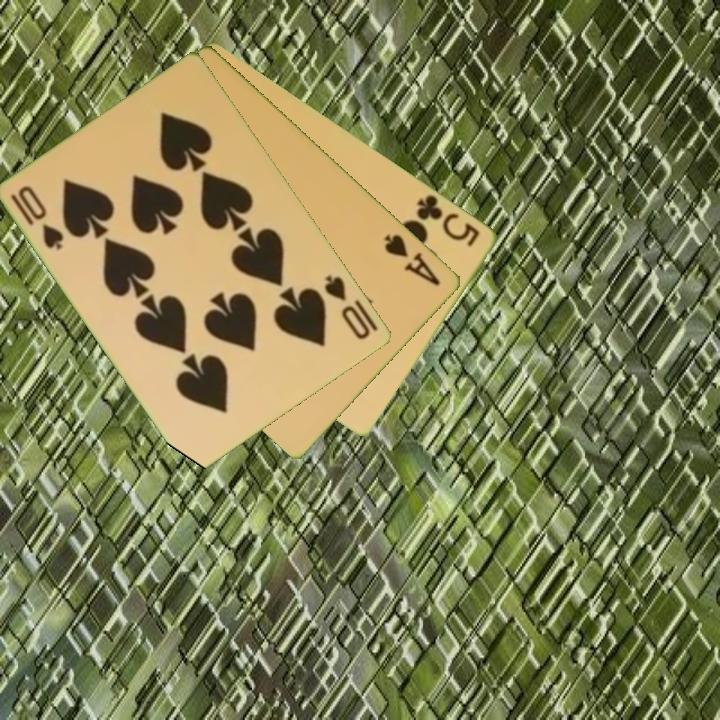10s: (7, 182, 68, 254), (321, 271, 374, 343)
5c: (413, 190, 484, 249)
As: (380, 230, 445, 289)
